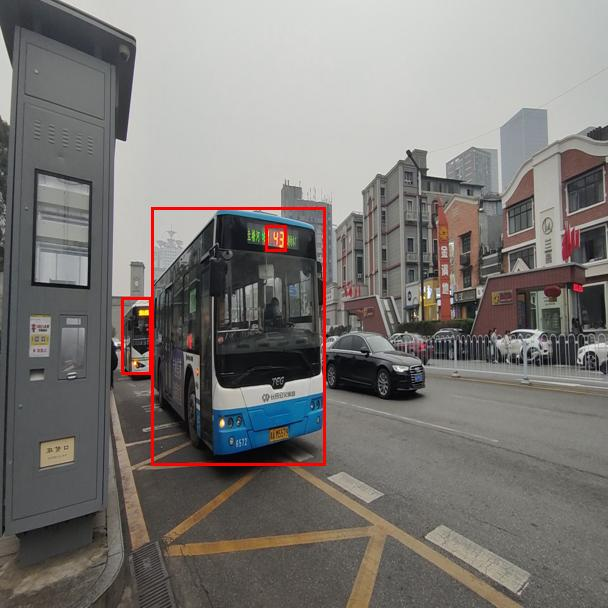bus: (151, 207, 325, 465), (121, 297, 151, 374)
screen: (265, 225, 286, 251)
